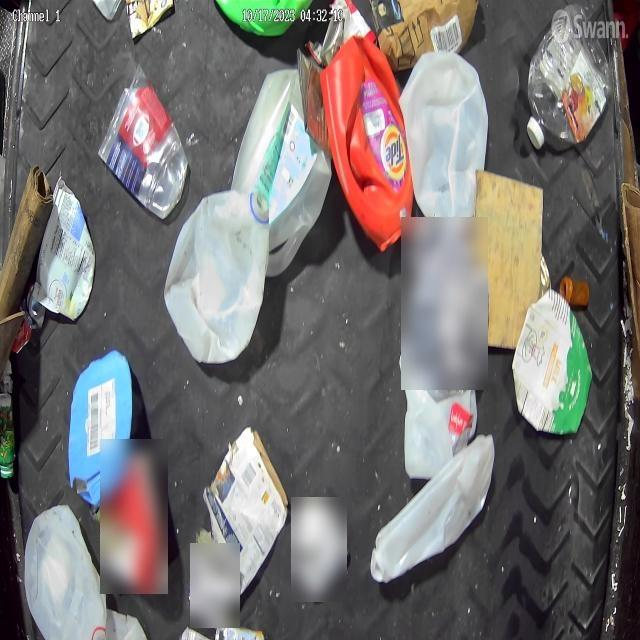milk_jug: (232, 63, 332, 277), (164, 190, 272, 366), (374, 434, 494, 586), (404, 54, 487, 232), (23, 503, 108, 639)
non_white_jug: (323, 34, 413, 252), (67, 355, 134, 502)
